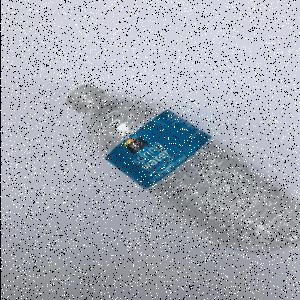Plastic-bottle: (66, 83, 300, 256)
